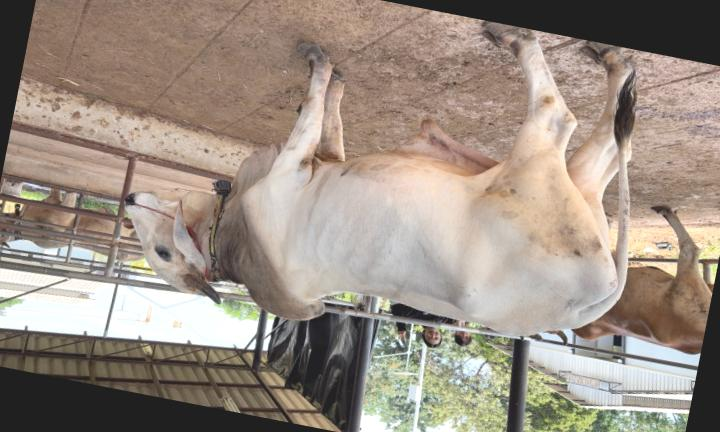Brahman: (125, 22, 634, 335)
